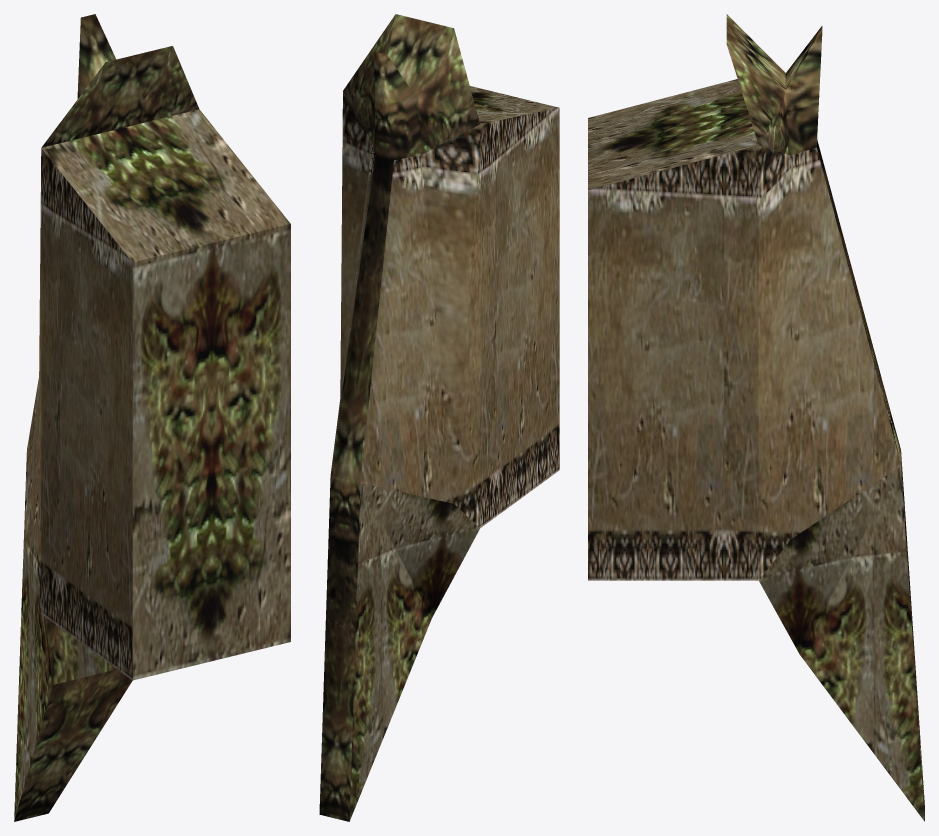
File: StoneMuWall02.obj
3 views of the same model, side by side, from view 1: azimuth 30°, elevation 25°; view 2: azimuth 150°, elevation 25°; view 3: azimuth 270°, elevation 25° (orthographic). The views are drawn at different scales.
Parts seen in each view (by area): view 1: Mesh_0, Mesh_2, Mesh_1; view 2: Mesh_2, Mesh_1, Mesh_0; view 3: Mesh_2, Mesh_0, Mesh_1.
Boxes of the visible parts, x1,y1,x2,y2 form: Mesh_0: (14,109,290,821); Mesh_2: (27,148,132,680); Mesh_1: (14,14,199,821); Mesh_2: (331,91,559,528); Mesh_1: (319,14,479,821); Mesh_0: (349,86,558,820); Mesh_2: (588,145,900,580); Mesh_0: (588,79,924,821); Mesh_1: (726,14,924,820).
Size of the model in its own units: 1 by 5.08 by 1.97.
3 materials, 3 textured.
